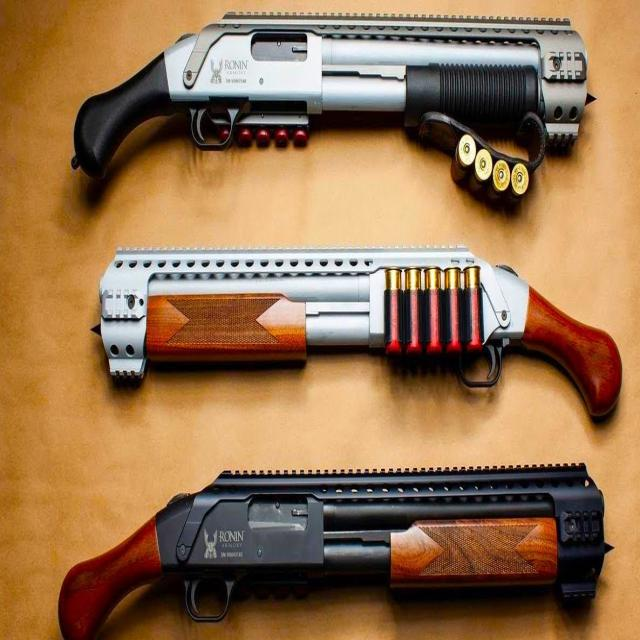Weapon: (59, 464, 611, 640), (94, 245, 621, 416), (74, 12, 593, 177)
